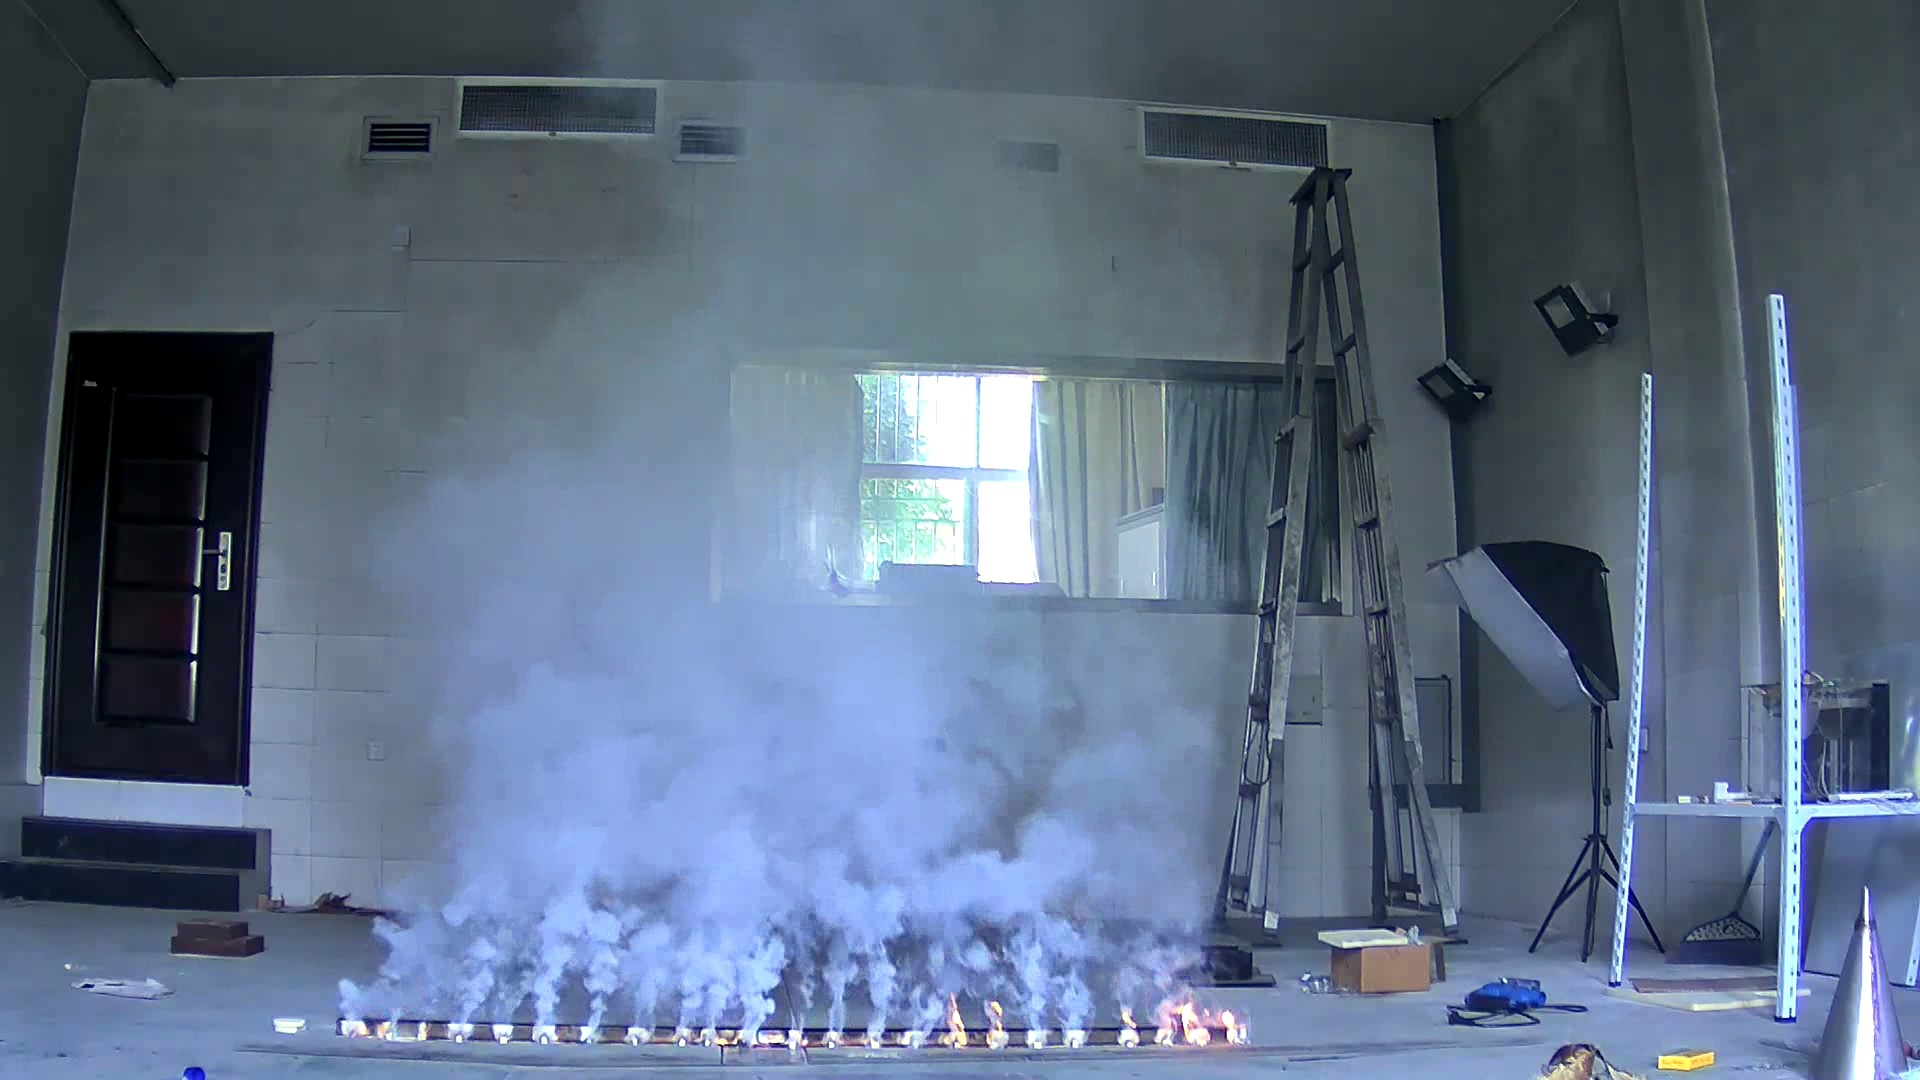smoke: (340, 347, 1225, 1013)
